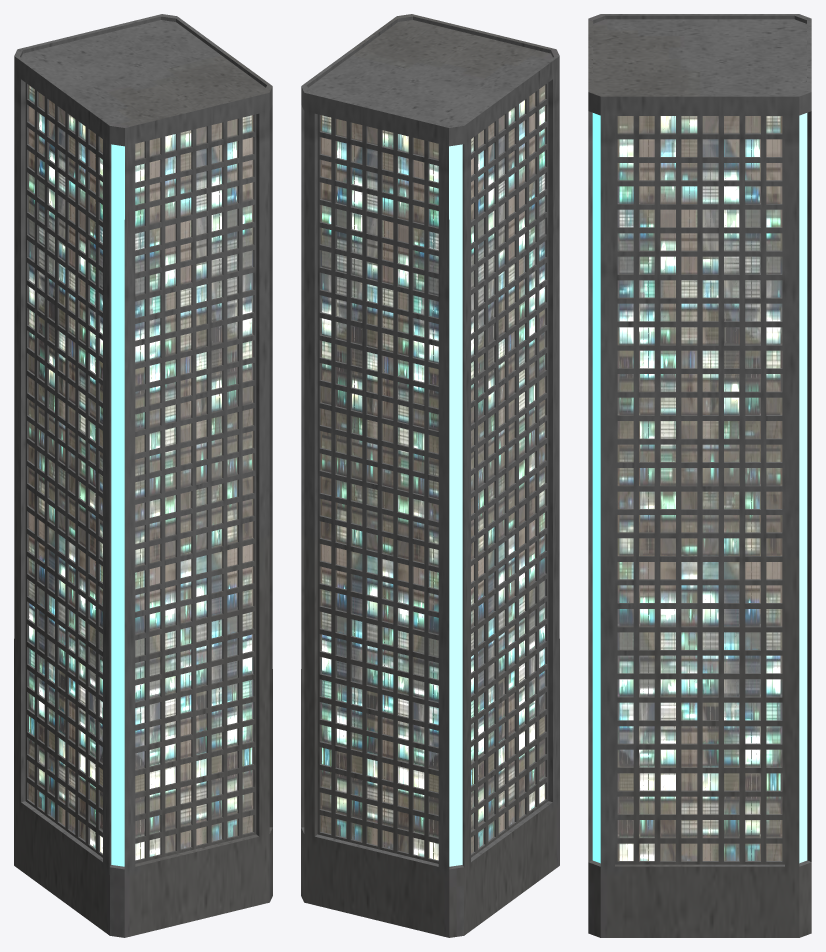
The model's file is Build 10.fbx.
3 renders of one model, left to right at view 1: azimuth 30°, elevation 25°; view 2: azimuth 150°, elevation 25°; view 3: azimuth 270°, elevation 25°, orthographic. The views are drawn at different scales.
Parts seen in each view (by area): view 1: Cube.010; view 2: Cube.010; view 3: Cube.010.
Boxes of the visible parts, x1=… form: Cube.010: x1=14, y1=14, x2=272, y2=937; Cube.010: x1=301, y1=14, x2=559, y2=937; Cube.010: x1=588, y1=14, x2=811, y2=937.
Size of the model in its own units: 3500 by 16616 by 4000.
3 materials, 1 textured.
